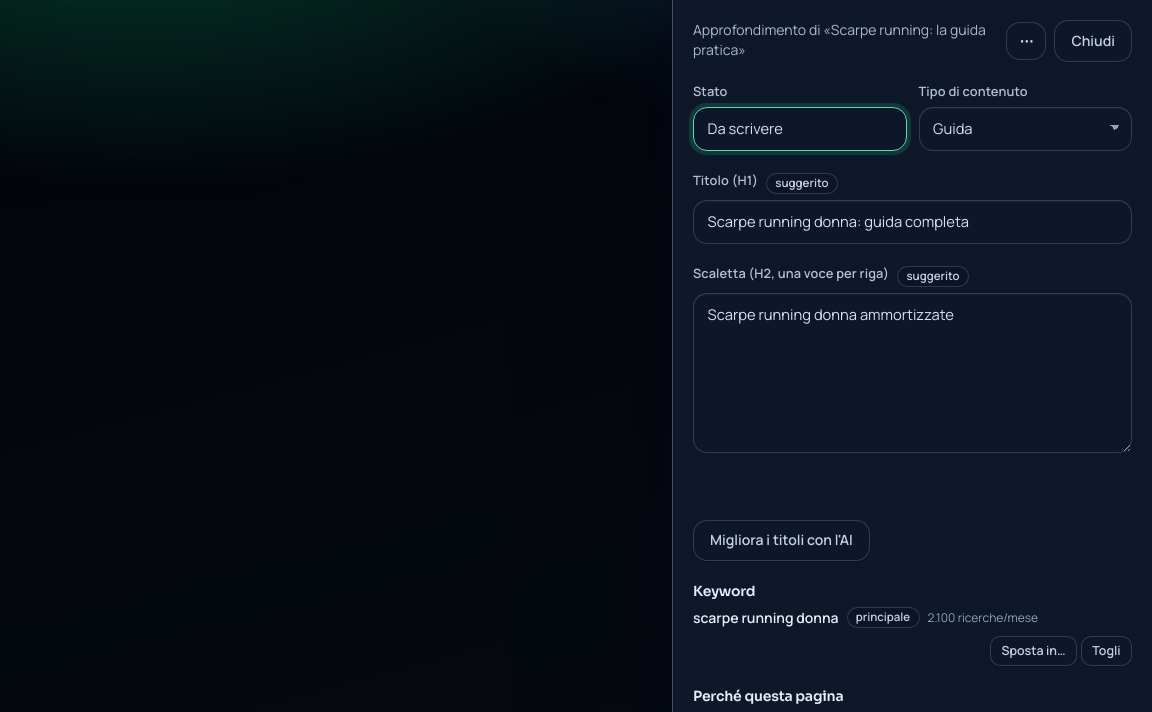
titoli con l'AI nel pannello della pagina › «Scarta» invia solo il DELETE, chiude la card e lascia i titoli di prima
The width and height of the screenshot is (1152, 712).
What coordinates should you click on to do the following:
click the button "Migliora i titoli con l'AI"
I would click on:
 (781, 540)
Its box is [693,520,870,561].
(page scrolled)
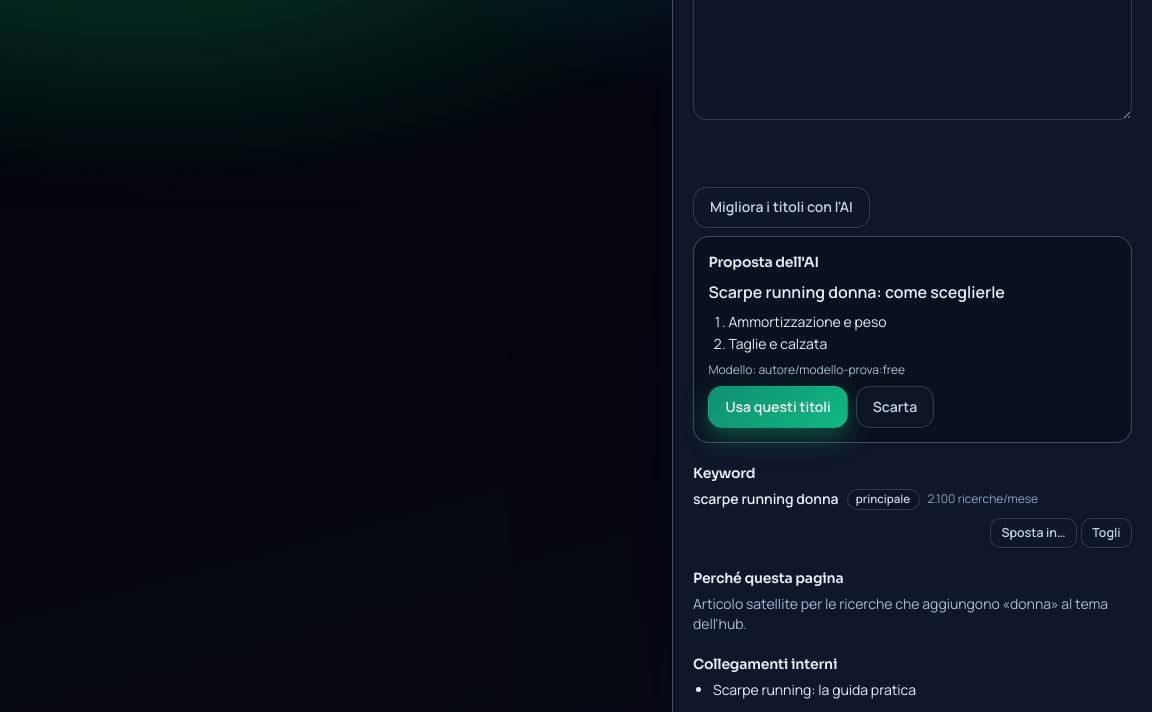
What coordinates should you click on to do the following:
click the button "Scarta"
I would click on:
 (895, 407)
Its box is [856,386,934,428].
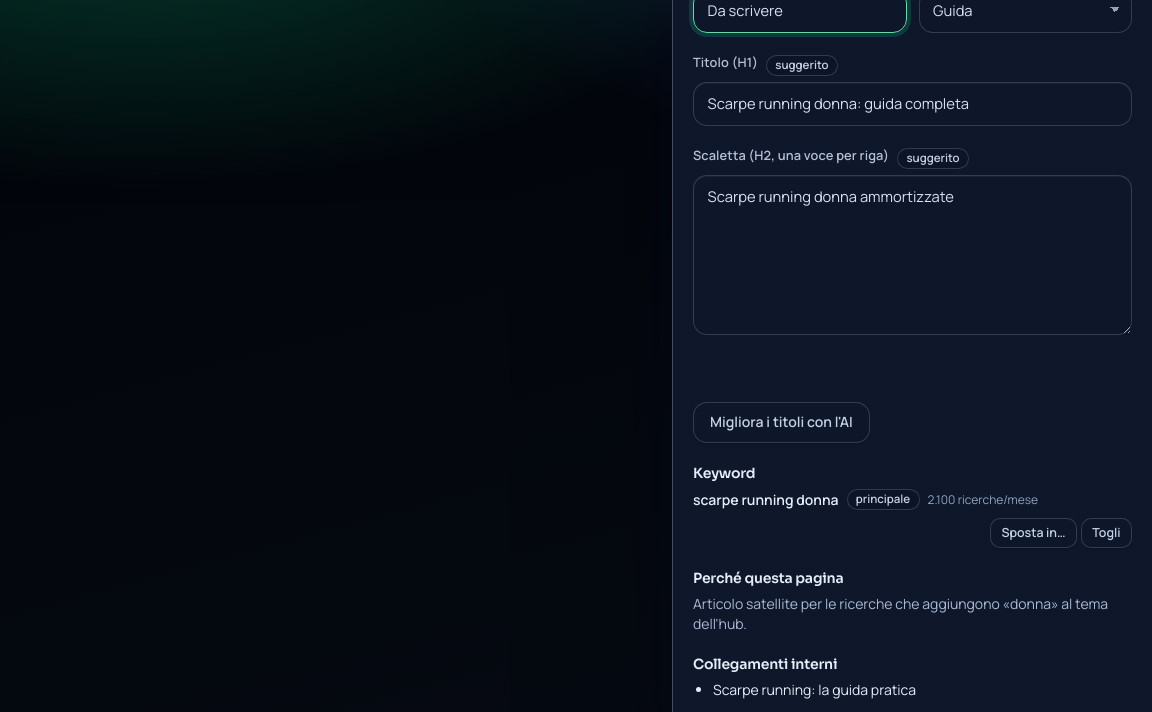
Expected: the text box labelled "Scaletta (H2, una voce per riga)" holds "Scarpe running donna ammortizzate", [693,175,1132,335]
Expected: the heading "Proposta dell'AI" is gone
Expected: the field labelled "Titolo (H1)" holds "Scarpe running donna: guida completa", [693,82,1132,126]
